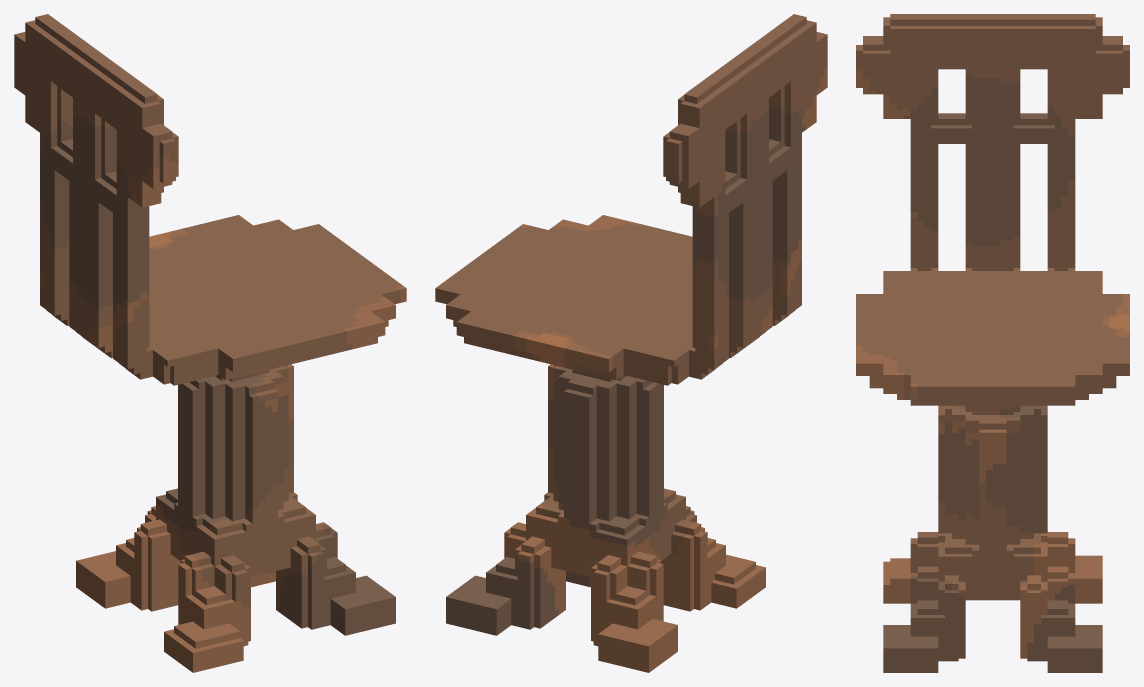
File: chair1.obj
3 renders of one model, left to right at view 1: azimuth 30°, elevation 25°; view 2: azimuth 150°, elevation 25°; view 3: azimuth 270°, elevation 25°, orthographic. The views are drawn at different scales.
Parts seen in each view (by area): view 1: chair1; view 2: chair1; view 3: chair1.
Boxes of the visible parts, <box> form: chair1: <box>14,14,406,672</box>; chair1: <box>435,14,827,672</box>; chair1: <box>856,14,1129,672</box>.
Size of the model in its own units: 44 by 88 by 40.
1 material, 1 textured.
